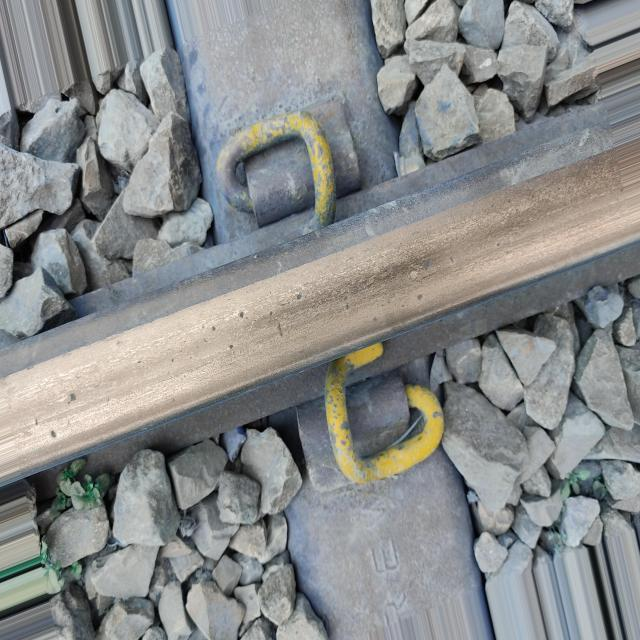squats_high: (34, 391, 78, 438), (269, 291, 305, 342), (210, 309, 246, 351), (418, 290, 425, 303)
